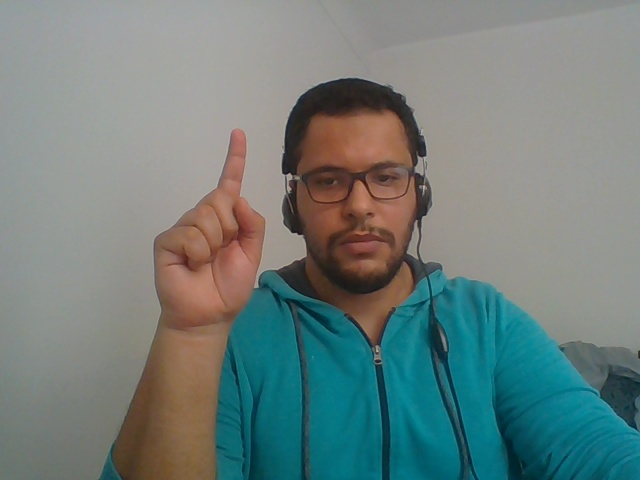handup: (125, 120, 273, 407)
